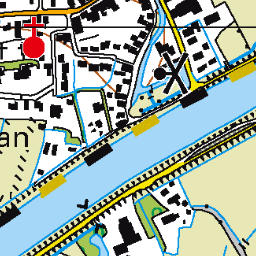church: (17, 15, 51, 60)
